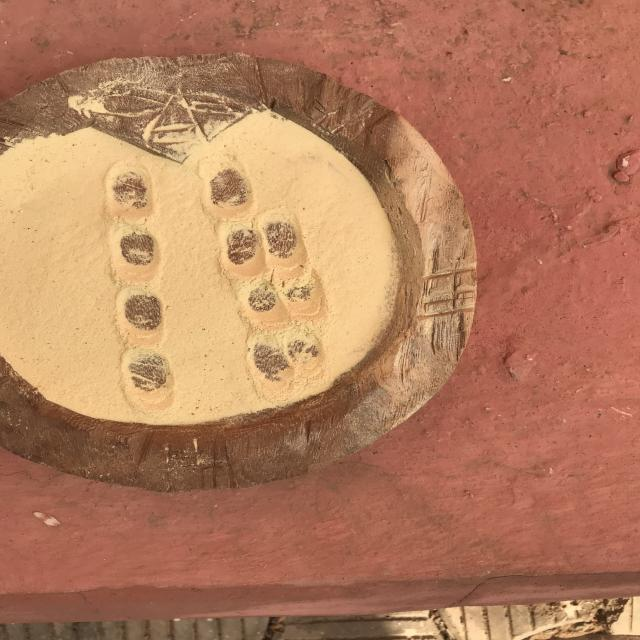double: (237, 271, 337, 332), (216, 214, 314, 276), (252, 326, 331, 394)
single: (118, 342, 178, 422), (104, 220, 168, 289), (99, 159, 161, 228), (196, 152, 258, 221), (114, 284, 172, 351)
